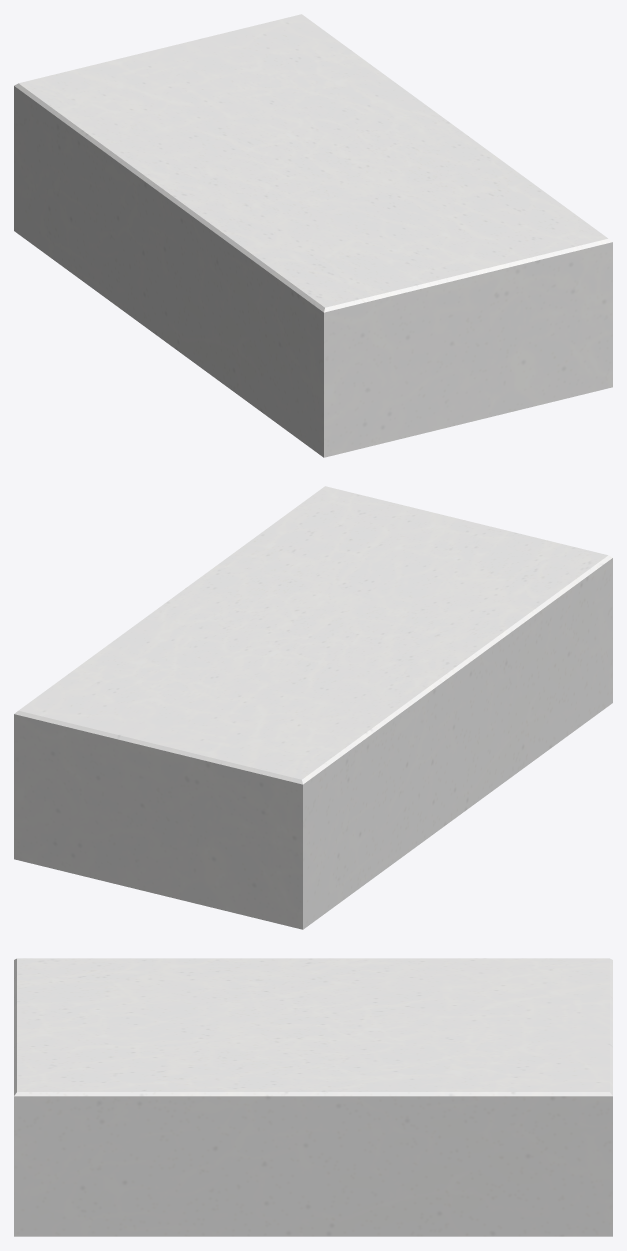
File: Desk.fbx
The picture shows the model from 3 angles, top to bottom: view 1: azimuth 30°, elevation 25°; view 2: azimuth 150°, elevation 25°; view 3: azimuth 270°, elevation 25°; orthographic projection. The views are drawn at different scales.
Visible parts, largest first — view 1: Desk; view 2: Desk; view 3: Desk.
Part boxes in pixels (box(x1,y1,x2,y2)): Desk: box(14, 14, 612, 457); Desk: box(14, 486, 612, 929); Desk: box(14, 958, 612, 1236).
Size of the model in its own units: 3500 by 1714 by 6500.
1 material, 1 textured.
